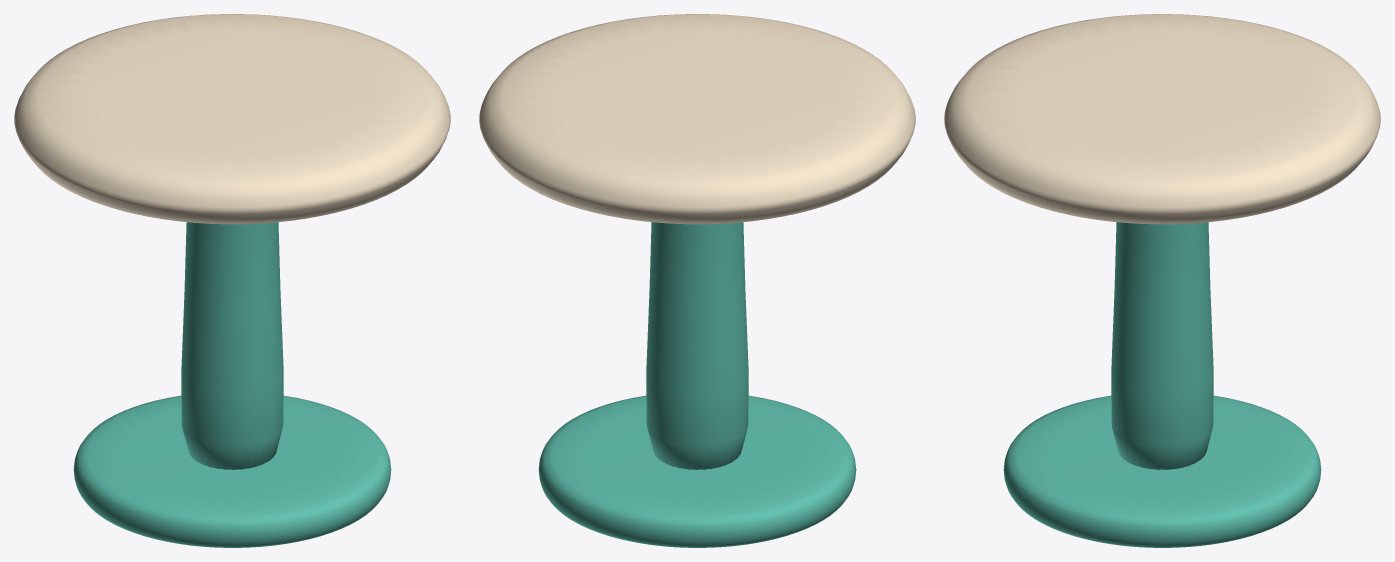
Rendered from side_table_a.glb.
3 views of the same model, side by side, from view 1: azimuth 30°, elevation 25°; view 2: azimuth 150°, elevation 25°; view 3: azimuth 270°, elevation 25° (orthographic).
Parts seen in each view (by area): view 1: body; view 2: body; view 3: body.
Part boxes in pixels (x1,y1,x2,y2): body: [14, 14, 450, 547]; body: [479, 14, 915, 547]; body: [944, 14, 1380, 547].
Bounding box in the file's own units: 0.44 × 0.44 × 0.44.
